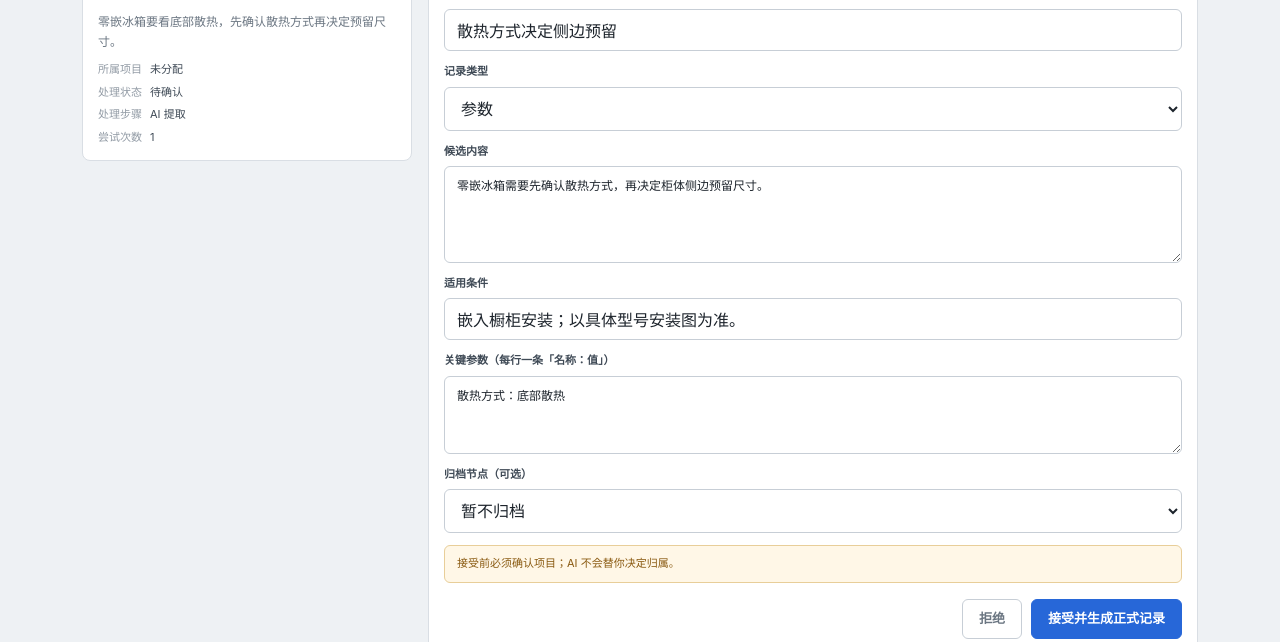
SourceConfirmPage confirmation flow › blocks acceptance with a malformed key params line
(page scrolled)
In the text box with placeholder "散热方式：底部散热" below "关键参数（每行一条「名称：值」）": x=813, y=415 [444, 376, 1182, 454], type "缺少分隔符的一行"
(page scrolled)
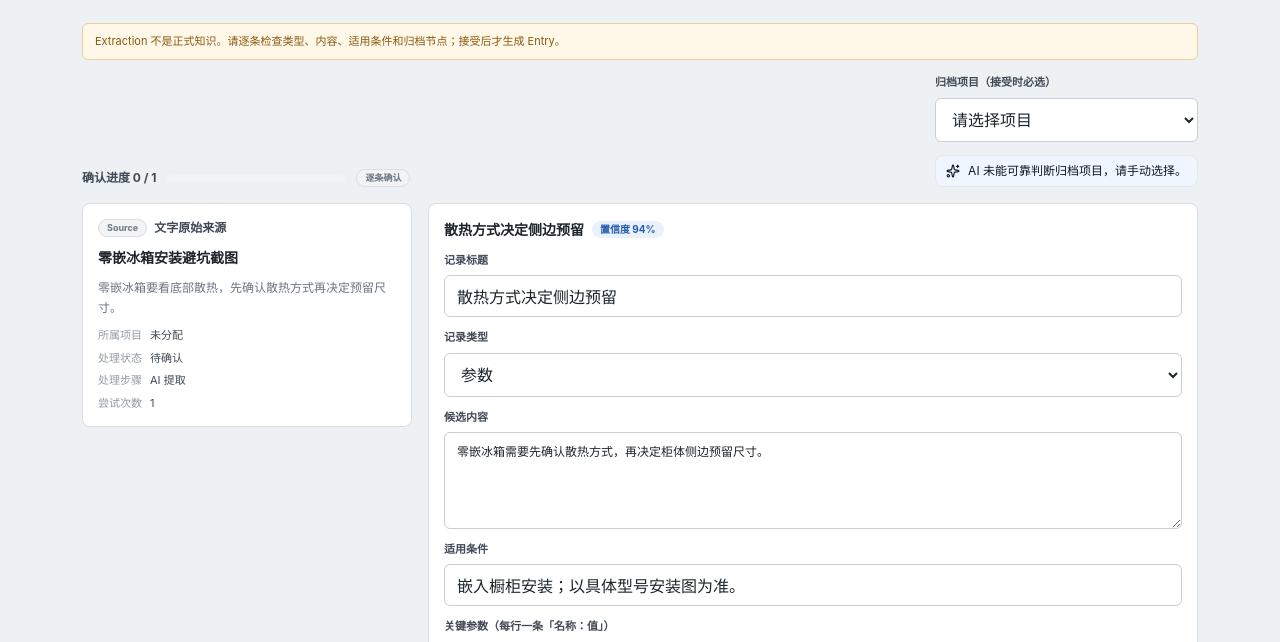
Select "新房装修" in the dropdown named "归档项目": x=1067, y=120 [935, 98, 1198, 142]
(page scrolled)
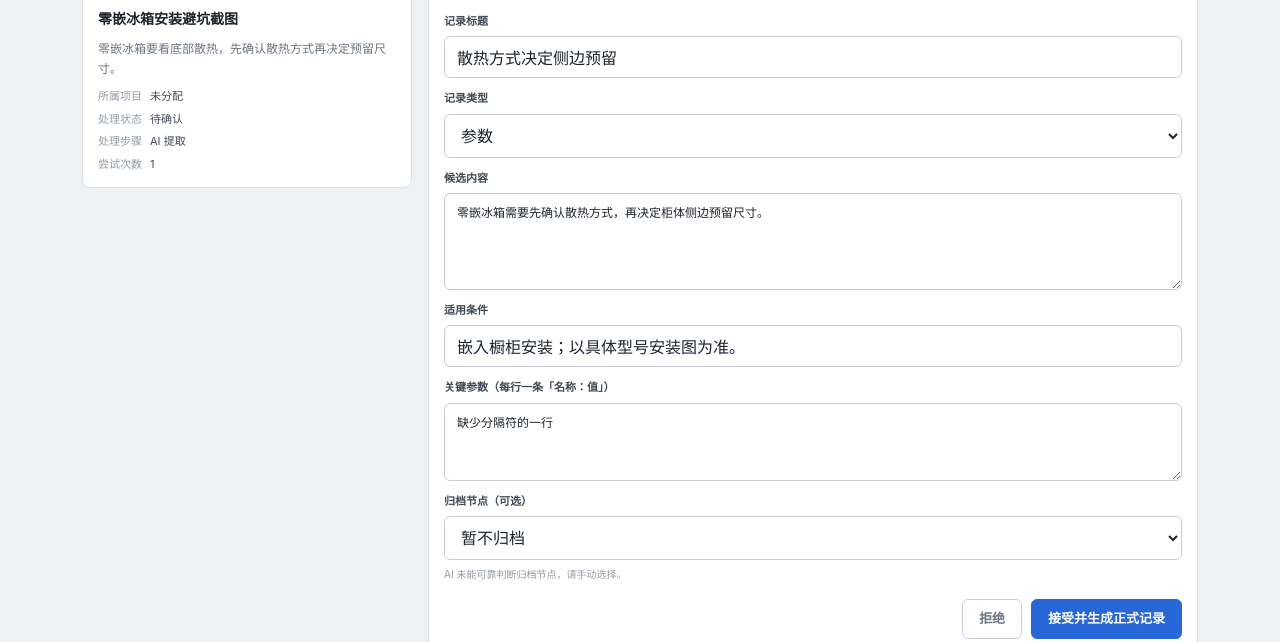
Click the button "接受并生成正式记录": x=1106, y=618 [1031, 598, 1182, 638]
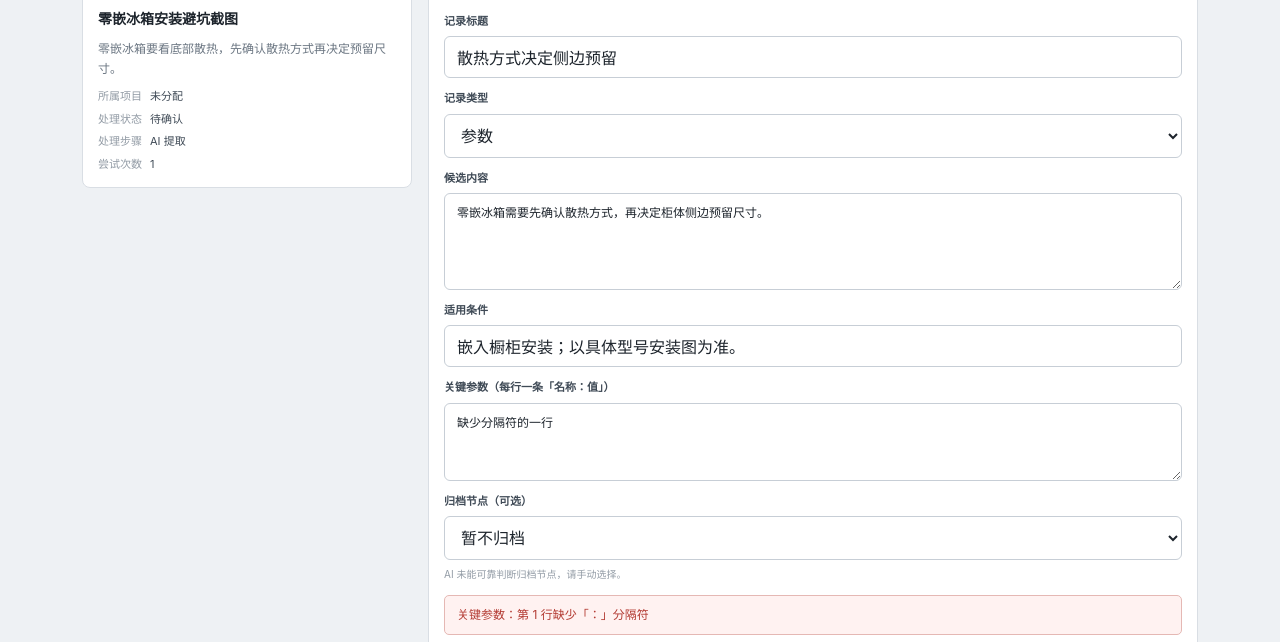
Now the text "关键参数：第 1 行缺少「：」分隔符" is shown, box [444, 594, 1182, 634]
